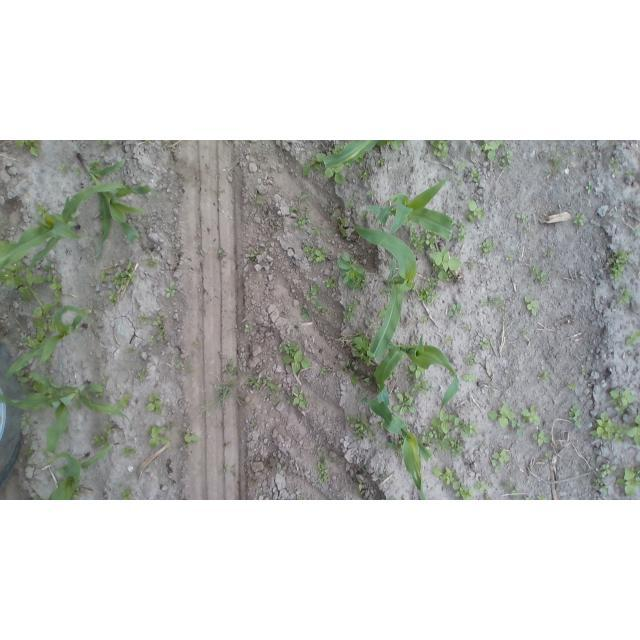Maize: (1, 181, 128, 274), (1, 373, 131, 453), (349, 224, 418, 361), (75, 152, 153, 261), (360, 397, 435, 499), (376, 333, 461, 416), (5, 305, 88, 381), (365, 177, 452, 245), (37, 444, 113, 501), (323, 140, 383, 170)
Weeds: (419, 410, 480, 457), (200, 358, 244, 414), (0, 263, 48, 304), (99, 262, 138, 307), (432, 466, 472, 500), (337, 250, 368, 292), (279, 341, 314, 377), (429, 247, 464, 282), (350, 329, 376, 368), (592, 410, 616, 443), (347, 412, 374, 441), (615, 465, 640, 495), (33, 303, 53, 338), (488, 402, 512, 431), (147, 424, 173, 449), (313, 445, 330, 483), (342, 365, 370, 388), (612, 387, 636, 413), (391, 391, 415, 416), (300, 152, 324, 177), (246, 374, 278, 392), (286, 387, 309, 412), (609, 251, 630, 278), (300, 243, 328, 261), (521, 405, 543, 426), (430, 141, 450, 164), (342, 298, 359, 325), (568, 405, 585, 432), (16, 140, 44, 156), (409, 223, 426, 249), (480, 141, 501, 162), (326, 164, 346, 186), (147, 392, 166, 415), (626, 414, 640, 445), (49, 275, 66, 299), (491, 449, 512, 468), (468, 200, 486, 222), (548, 154, 562, 180), (182, 429, 200, 447), (535, 430, 554, 446), (406, 364, 426, 379), (512, 419, 527, 439), (20, 412, 32, 436), (304, 280, 320, 298), (532, 264, 547, 283), (382, 437, 403, 450), (411, 380, 432, 393), (337, 216, 350, 237), (90, 432, 108, 447), (524, 297, 538, 316), (291, 205, 310, 219), (378, 140, 404, 150), (123, 445, 140, 460), (455, 222, 468, 241), (163, 282, 178, 298), (617, 288, 633, 303), (420, 286, 435, 302), (626, 330, 640, 346), (615, 425, 628, 442), (500, 150, 512, 168), (475, 480, 490, 494), (446, 303, 462, 316), (149, 331, 163, 345), (479, 239, 493, 253), (18, 370, 30, 386), (426, 234, 438, 249), (462, 373, 479, 383), (36, 203, 48, 217), (120, 394, 131, 409), (573, 214, 585, 227), (325, 279, 339, 290), (610, 157, 621, 171), (96, 141, 113, 150), (320, 204, 337, 213), (23, 450, 35, 462), (464, 352, 476, 364), (467, 260, 479, 272), (357, 479, 366, 494), (468, 172, 480, 183), (540, 454, 553, 464), (603, 464, 616, 474), (123, 488, 134, 499), (104, 422, 114, 434), (152, 315, 162, 327), (137, 369, 147, 381), (27, 336, 37, 348), (311, 224, 321, 236), (90, 157, 100, 168), (480, 338, 491, 348), (443, 339, 455, 348), (345, 194, 354, 206), (537, 493, 552, 500), (301, 308, 309, 321), (175, 360, 185, 370), (72, 167, 82, 177), (314, 302, 324, 312), (359, 169, 369, 179), (538, 372, 550, 380), (586, 181, 593, 194), (320, 367, 329, 377), (568, 381, 578, 390), (218, 250, 226, 261), (58, 163, 66, 174), (463, 323, 474, 331), (420, 316, 429, 325), (480, 300, 490, 308), (297, 219, 305, 229), (332, 145, 343, 152), (516, 214, 527, 221), (127, 347, 136, 355), (249, 252, 257, 261), (188, 363, 195, 373), (74, 402, 82, 410), (146, 257, 154, 265), (454, 178, 462, 186), (139, 314, 146, 323), (525, 493, 534, 500), (593, 478, 602, 485), (521, 329, 530, 336), (378, 157, 387, 164), (579, 365, 585, 375), (257, 197, 264, 205), (379, 310, 386, 318), (276, 462, 282, 471), (547, 249, 553, 258), (366, 191, 376, 196), (194, 341, 202, 347), (457, 161, 465, 167), (508, 254, 514, 262), (245, 324, 250, 333), (523, 226, 530, 232), (494, 298, 502, 303), (167, 421, 172, 428), (300, 195, 306, 198)
